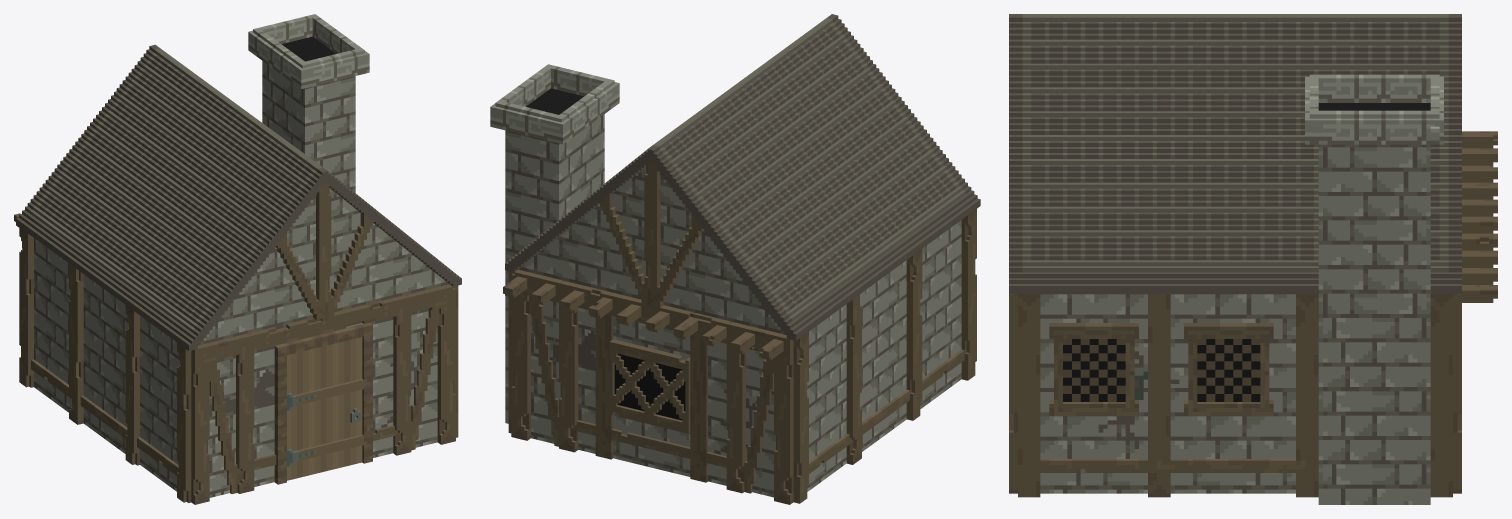
Rendered from Medieval Town - Free Sample-2-House.obj.
3 renders of one model, left to right at view 1: azimuth 30°, elevation 25°; view 2: azimuth 150°, elevation 25°; view 3: azimuth 270°, elevation 25°, orthographic. The views are drawn at different scales.
Visible parts, largest first — view 1: House; view 2: House; view 3: House.
Boxes of the visible parts, <box> form: House: <box>14,14,461,504</box>; House: <box>490,14,980,504</box>; House: <box>1009,14,1497,504</box>.
Bounding box in the file's own units: 1.98 × 1.94 × 2.18.
Materials: 1 (1 with a texture image).
